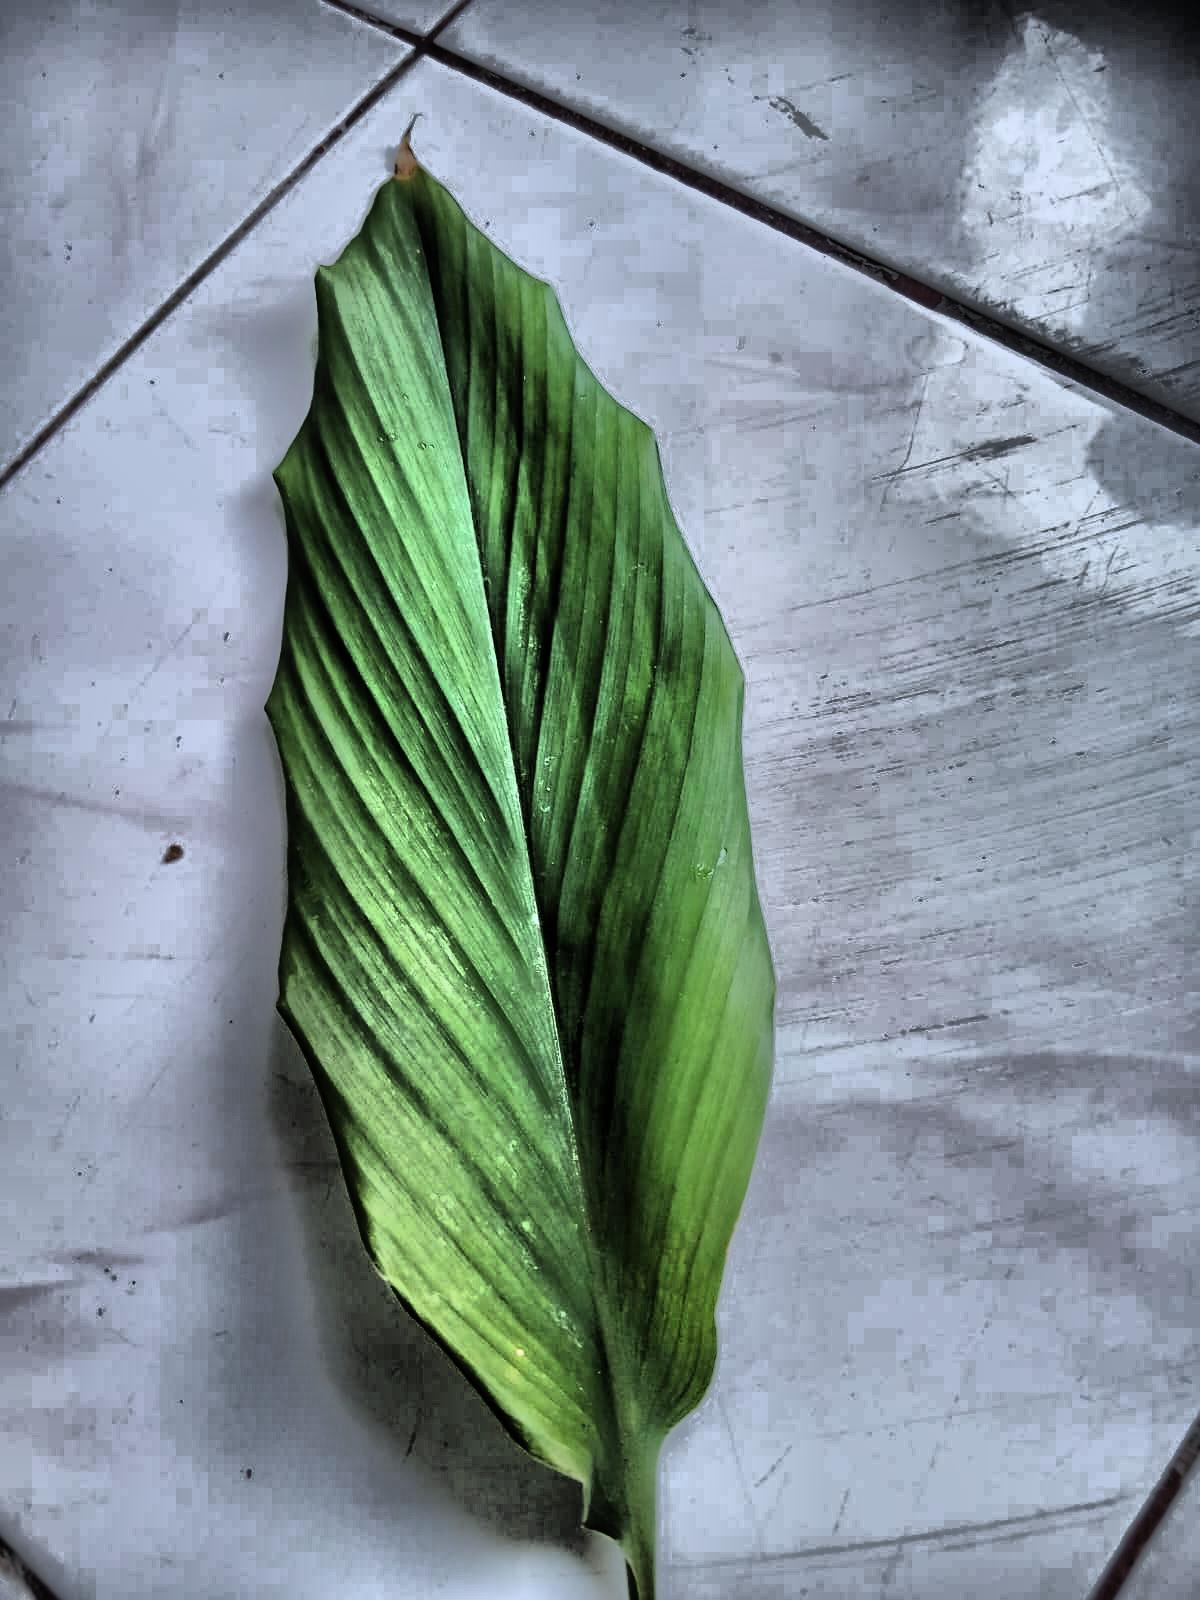daun kunyit: (266, 136, 774, 1599)
